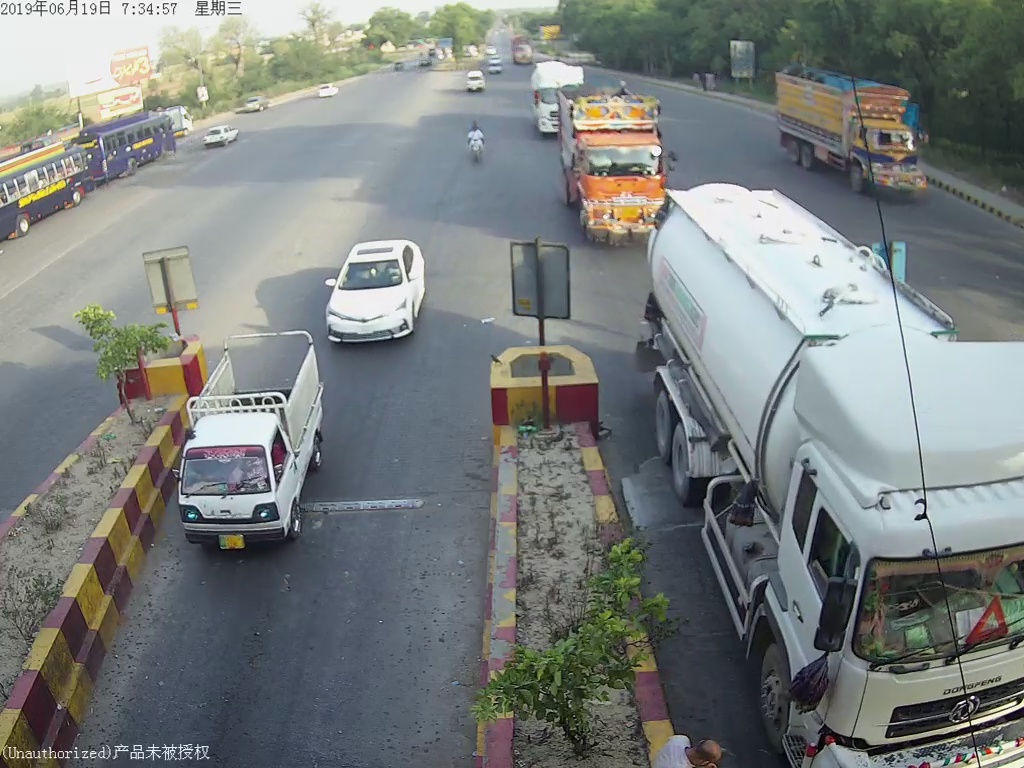Cat-1: (182, 325, 326, 559), (324, 241, 427, 346)
Cat-4: (666, 190, 1024, 754), (561, 100, 659, 235)
